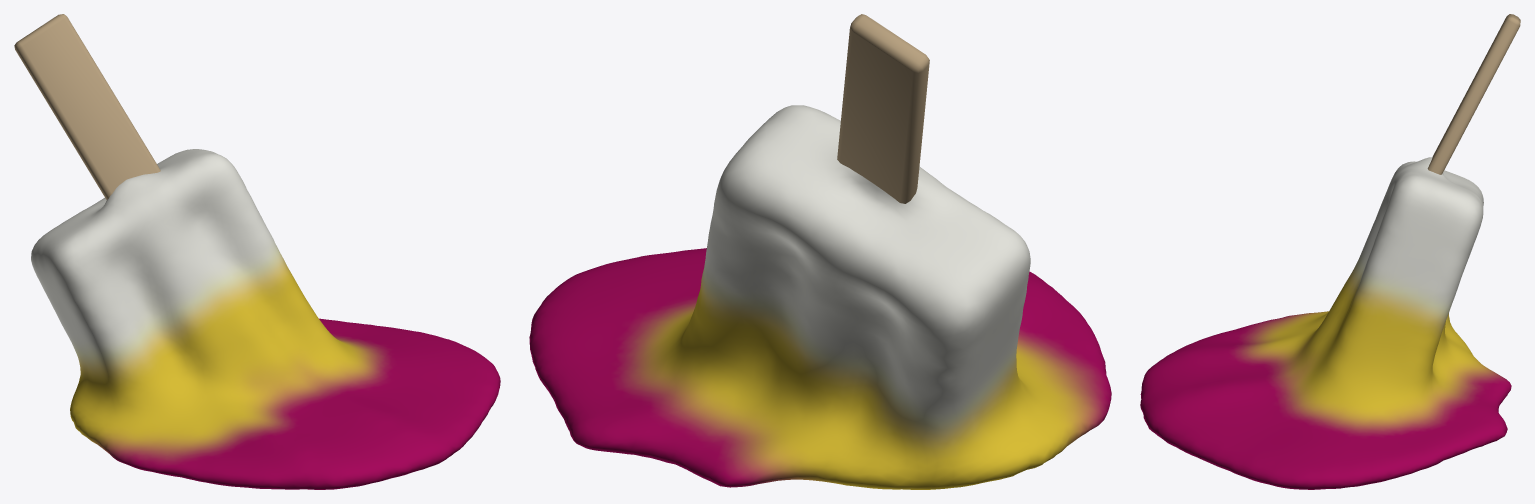
3 renders of one model, left to right at view 1: azimuth 30°, elevation 25°; view 2: azimuth 150°, elevation 25°; view 3: azimuth 270°, elevation 25°, orthographic. The views are drawn at different scales.
Visible parts, largest first — view 1: merge2; view 2: merge2; view 3: merge2.
Boxes of the visible parts, <box> form: merge2: <box>14,14,500,489</box>; merge2: <box>529,14,1111,489</box>; merge2: <box>1140,14,1520,489</box>.
Bounding box in the file's own units: 2.56 × 2.31 × 2.38.
